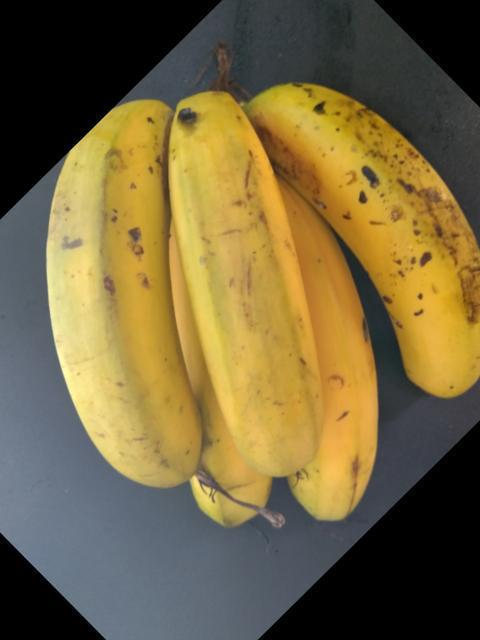ripe: (252, 61, 479, 413), (160, 87, 329, 522), (51, 86, 198, 522)
